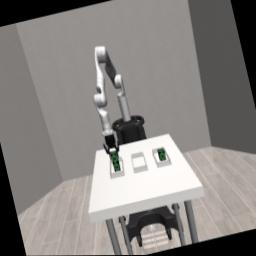cube1: (157, 148, 166, 161)
cube2: (109, 149, 118, 163)
cube3: (112, 160, 120, 171)
